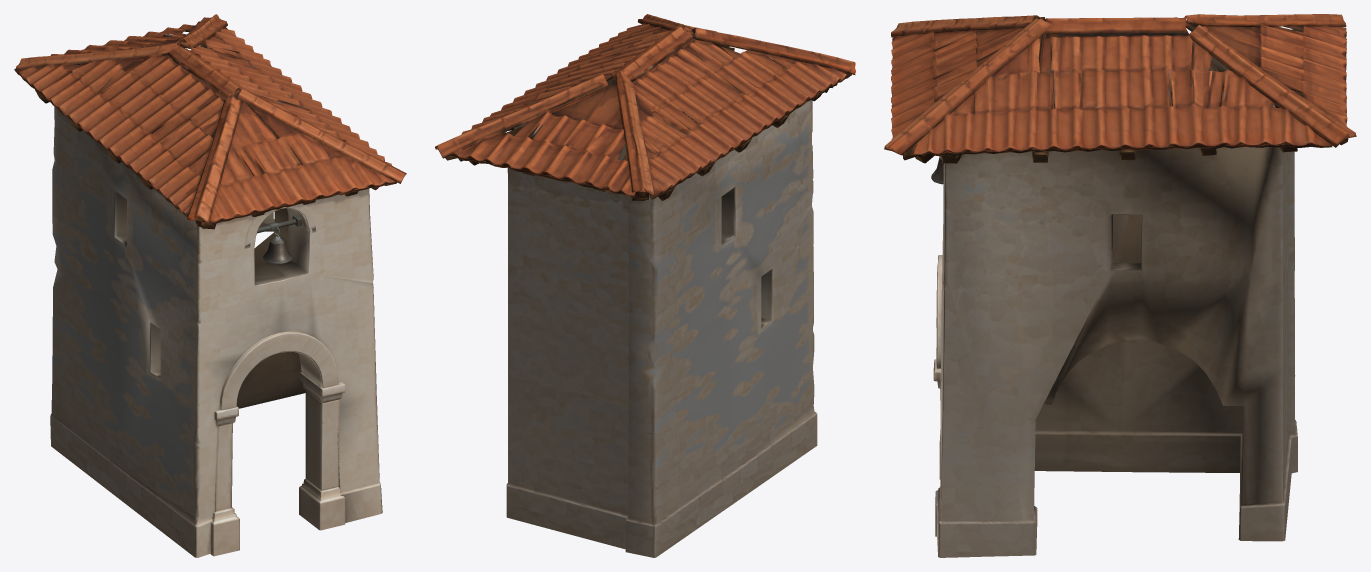
Rendered from act1_kit_v1_gate_tower.glb.
3 views of the same model, side by side, from view 1: azimuth 30°, elevation 25°; view 2: azimuth 150°, elevation 25°; view 3: azimuth 270°, elevation 25° (orthographic). The views are drawn at different scales.
Visible parts, largest first — view 1: act1_kit_v1_gate_tower; view 2: act1_kit_v1_gate_tower; view 3: act1_kit_v1_gate_tower.
Boxes of the visible parts, left/top/right/bottom form: act1_kit_v1_gate_tower: left=14, top=14, right=406, bottom=557; act1_kit_v1_gate_tower: left=435, top=14, right=855, bottom=557; act1_kit_v1_gate_tower: left=884, top=14, right=1356, bottom=557.
Size of the model in its own units: 0.5566 by 1 by 0.8761.
Materials: 1 (1 with a texture image).
